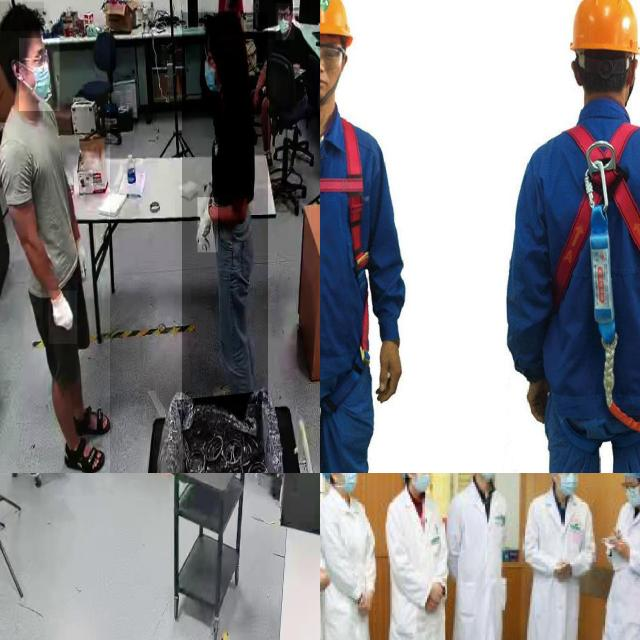Harness: (552, 119, 640, 328), (320, 111, 370, 283)
face_mask: (19, 38, 59, 111), (200, 33, 222, 97), (276, 2, 294, 40), (622, 474, 640, 507), (553, 473, 582, 492), (334, 473, 362, 492), (410, 473, 436, 493), (473, 473, 500, 484)
glasses: (31, 50, 51, 69)
hand_glove: (48, 290, 78, 344), (198, 197, 218, 253)
hand_noglove: (359, 590, 375, 615), (613, 538, 630, 561), (558, 558, 572, 582), (432, 581, 444, 603), (425, 595, 438, 613), (251, 92, 261, 115), (320, 568, 330, 591), (609, 527, 621, 544)
head_nohelmet: (0, 2, 44, 32), (203, 10, 244, 36), (274, 0, 293, 4)
person: (0, 0, 110, 473), (182, 12, 268, 406), (525, 473, 594, 640), (387, 473, 451, 640), (455, 473, 515, 640), (253, 0, 306, 180), (321, 473, 378, 640), (604, 473, 640, 640)
